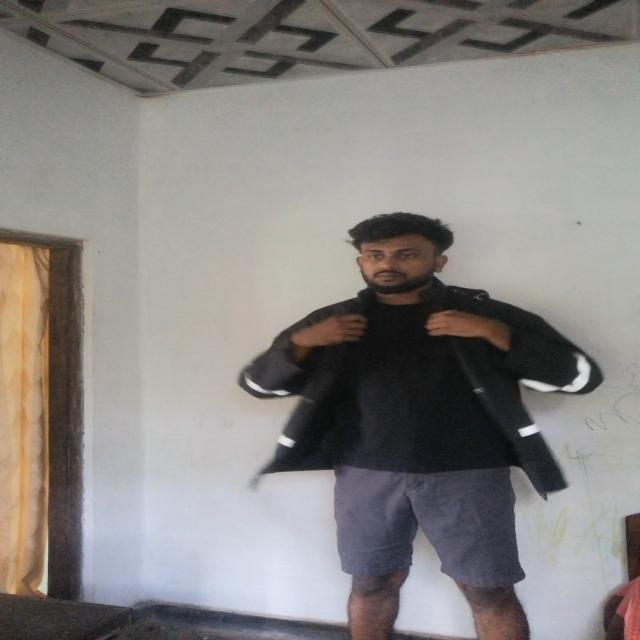Jacket_Wearer: (243, 277, 618, 501)
